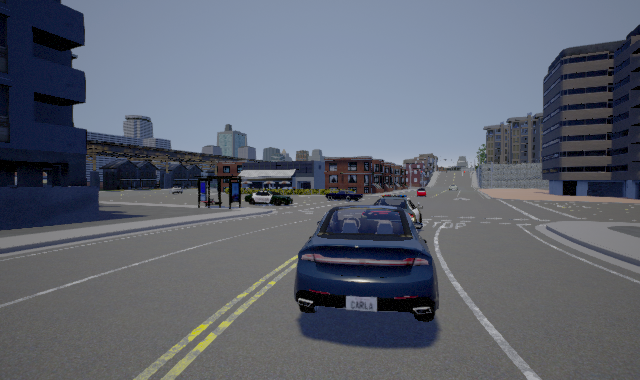vehicle: (294, 195, 439, 322), (244, 190, 293, 206), (325, 191, 363, 202)
